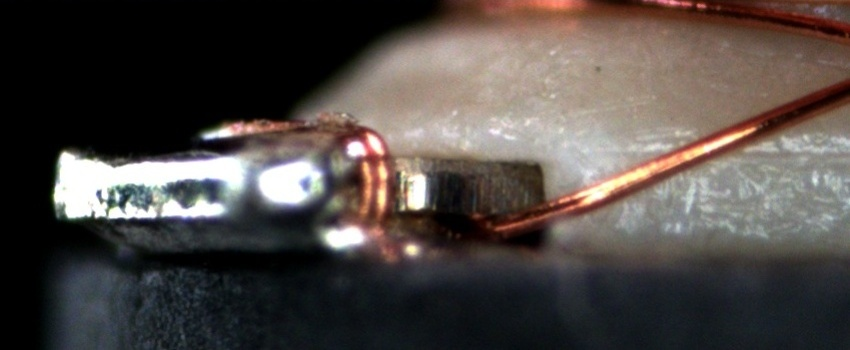DL: (591, 122, 849, 186)
TE: (198, 110, 402, 235)
